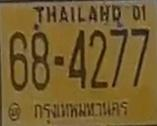2: (89, 30, 107, 88)
4: (68, 29, 85, 88)
6: (8, 31, 28, 91)
7: (130, 28, 150, 87), (109, 28, 128, 88)
8: (31, 31, 49, 90)
BKK: (29, 96, 130, 125)
